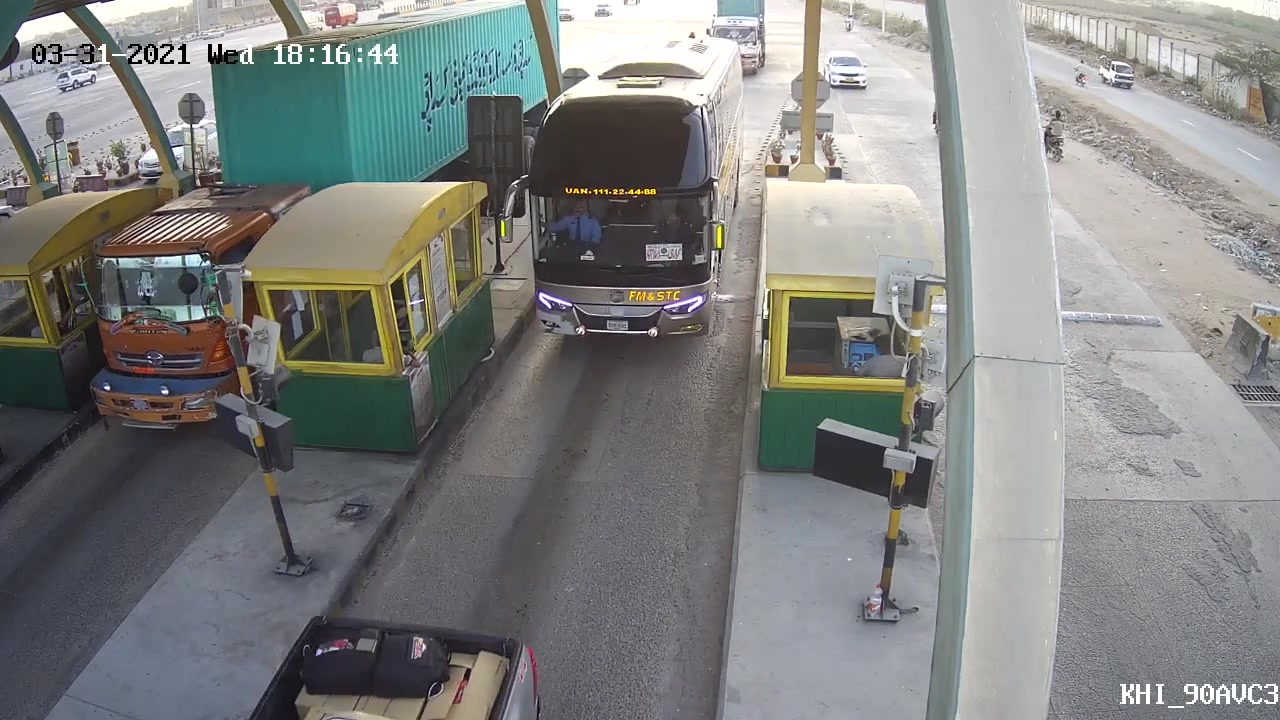F4: (534, 26, 752, 348)
